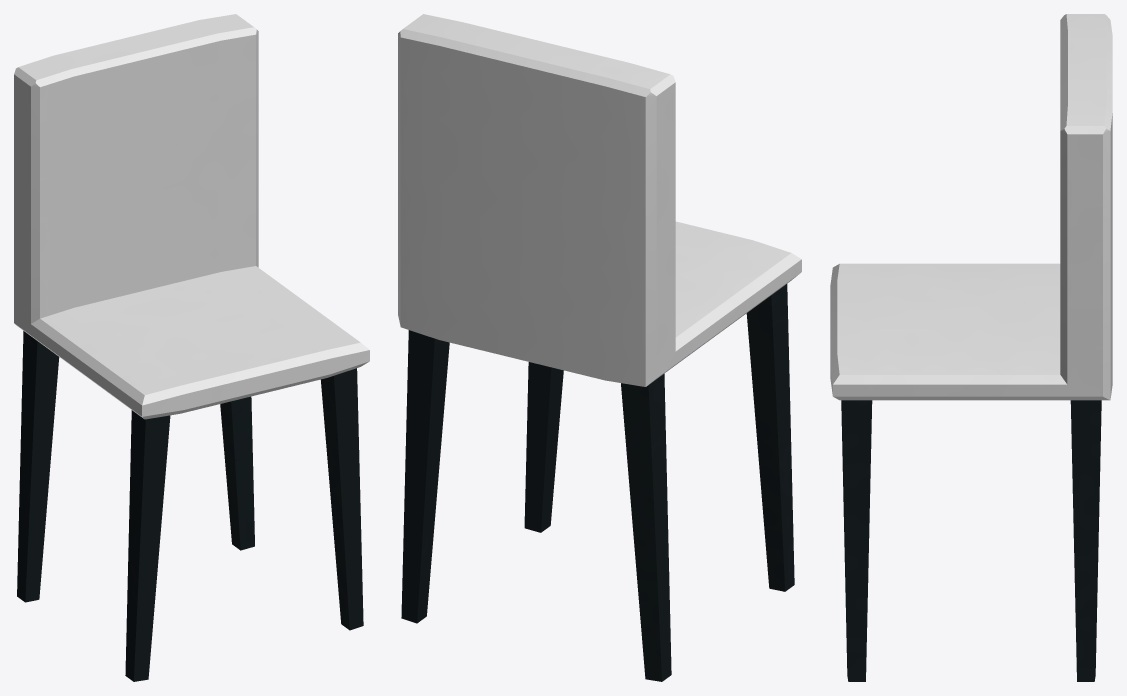
The model's file is Chair_02_04.fbx.
The picture shows the model from 3 angles, left to right: view 1: azimuth 30°, elevation 25°; view 2: azimuth 150°, elevation 25°; view 3: azimuth 270°, elevation 25°; orthographic projection. The views are drawn at different scales.
Visible parts, largest first — view 1: Chair_02_04; view 2: Chair_02_04; view 3: Chair_02_04.
Boxes of the visible parts, x1,y1,x2,y2 form: Chair_02_04: (14, 14, 369, 681); Chair_02_04: (398, 14, 801, 681); Chair_02_04: (830, 14, 1112, 681).
Bounding box in the file's own units: 0.4836 × 1.06 × 0.4882.
